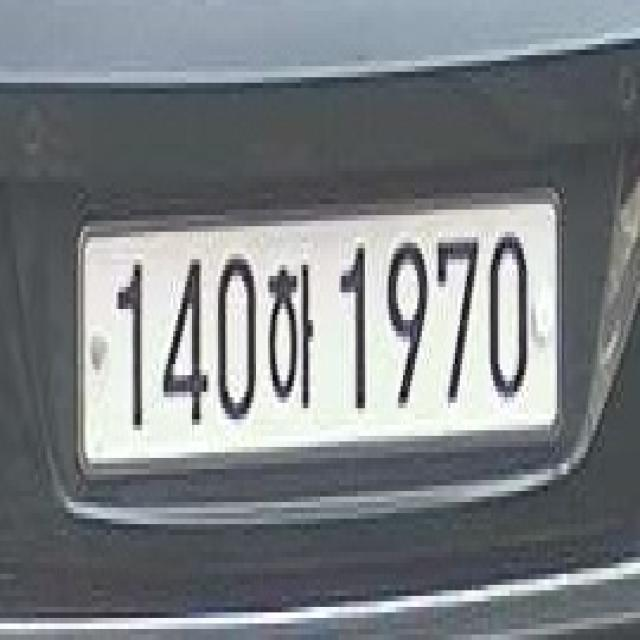plat: (71, 182, 569, 482)
